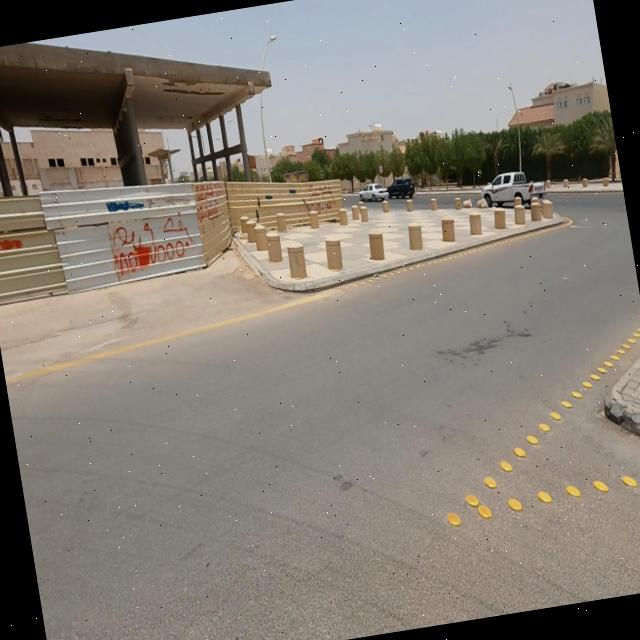Graffiti: (109, 209, 200, 281), (194, 182, 229, 227), (307, 182, 338, 214), (106, 194, 148, 215), (1, 234, 24, 261)
